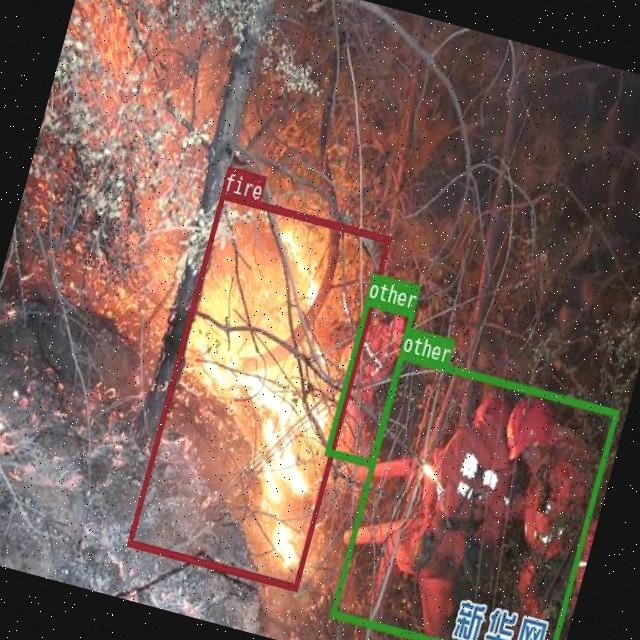fire: (126, 190, 390, 590)
